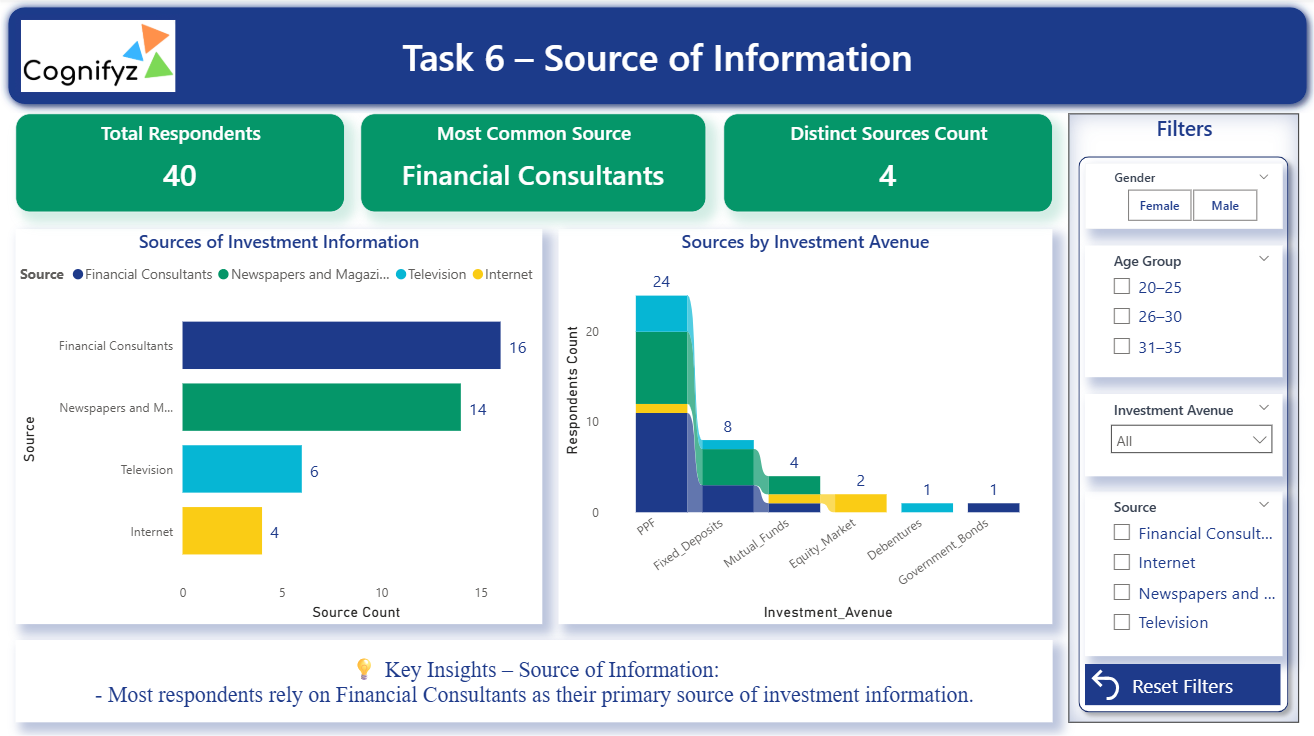

Layout of this report page (visuals, bound fields, positions):
{"tool":"powerbi","page":{"name":"Task 6","canvas":[1280,720],"ordinal":5},"visuals":[{"type":"shape","title":"Filters","box":[1040,112,224,592],"z":0,"group":"g1"},{"type":"barChart","title":"Sources of Investment Information","fields":{"Category":["Survey.Source"],"Y":["Survey.Source Count"],"Series":["Survey.Source"]},"box":[16,224,512,384],"z":0},{"type":"columnChart","title":"Sources by Investment Avenue","fields":{"Category":["Survey.Investment_Avenue"],"Series":["Survey.Source"],"Y":["Survey.Respondents Count"]},"box":[544,224,480,384],"z":1000},{"type":"shape","title":"Task 4 – Investment Duration & Monitoring Frequency","box":[0,0,1280,112],"z":2000},{"type":"image","box":[16,16,160,80],"z":3000},{"type":"group","id":"g1","title":"Group 1","box":[1040,112,224,592],"z":4000},{"type":"card","title":"Total Respondents","fields":{"Values":["Survey.Respondents Count"]},"box":[16,112,320,96],"z":5000},{"type":"card","title":"Most Common Source","fields":{"Values":["Survey.Most Common Source"]},"box":[352,112,336,96],"z":6000},{"type":"slicer","title":"Gender","fields":{"Values":["Survey.Gender"]},"box":[1056,160,192,64],"z":6000,"group":"g1"},{"type":"card","title":"Distinct Sources Count","fields":{"Values":["Survey.Distinct Sources"]},"box":[704,112,320,96],"z":7000},{"type":"slicer","title":"Age ","fields":{"Values":["Survey.AgeGroup"]},"box":[1056,240,192,128],"z":7000,"group":"g1"},{"type":"actionButton","box":[1056,648,190,40],"z":7001},{"type":"card","fields":{"Values":["Survey.6 Dashboard Insights (Short)"]},"box":[16,624,1008,80],"z":7002},{"type":"slicer","fields":{"Values":["Survey.Source"]},"box":[1056,480,192,160],"z":8000,"group":"g1"},{"type":"slicer","fields":{"Values":["Survey.Investment_Avenue"]},"box":[1056,384,192,80],"z":9000,"group":"g1"}]}

Visuals, with their boxes in screenshot pixels (x1, y1, x2, y2), scaled from the page's 1280x720 canvas onto the 1314x736 screenshot:
"Filters" shape: x1=1068 y1=114 x2=1298 y2=720
"Sources of Investment Information" barChart: x1=16 y1=229 x2=542 y2=622
"Sources by Investment Avenue" columnChart: x1=558 y1=229 x2=1051 y2=622
"Task 4 – Investment Duration & Monitoring Frequency" shape: x1=0 y1=0 x2=1313 y2=114
image: x1=16 y1=16 x2=181 y2=98
"Group 1" group: x1=1068 y1=114 x2=1298 y2=720
"Total Respondents" card: x1=16 y1=114 x2=345 y2=213
"Most Common Source" card: x1=361 y1=114 x2=706 y2=213
"Gender" slicer: x1=1084 y1=164 x2=1281 y2=229
"Distinct Sources Count" card: x1=723 y1=114 x2=1051 y2=213
"Age " slicer: x1=1084 y1=245 x2=1281 y2=376
actionButton: x1=1084 y1=662 x2=1279 y2=703
card - Survey.6 Dashboard Insights (Short): x1=16 y1=638 x2=1051 y2=720
slicer - Survey.Source: x1=1084 y1=491 x2=1281 y2=654
slicer - Survey.Investment_Avenue: x1=1084 y1=393 x2=1281 y2=474
